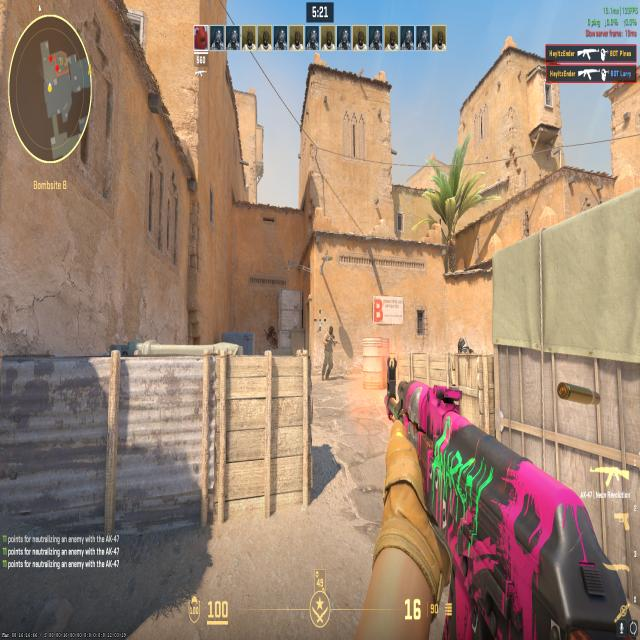ct: (454, 328, 476, 356)
t: (318, 322, 337, 386)
